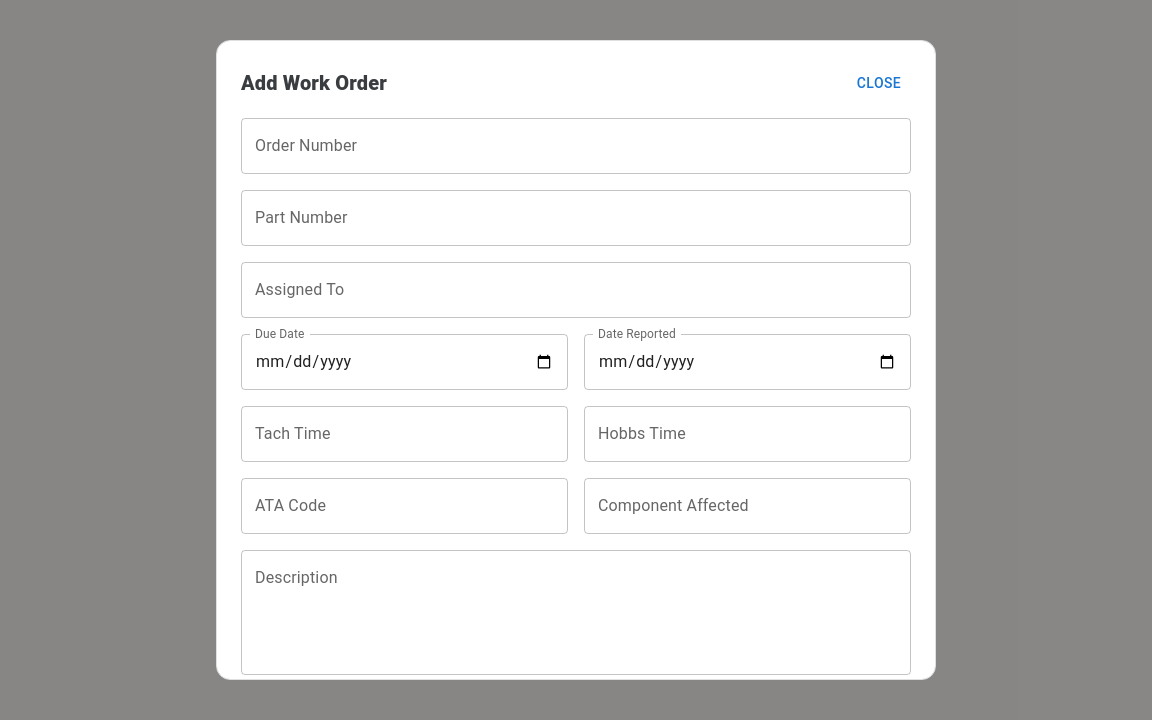
AddWorkOrderForm › Form Validation › should show error for missing description
The image size is (1152, 720).
Type "WO-001" into the field labelled "Order Number".
click(576, 146); type("WO-001")  # box [241,118,911,174]
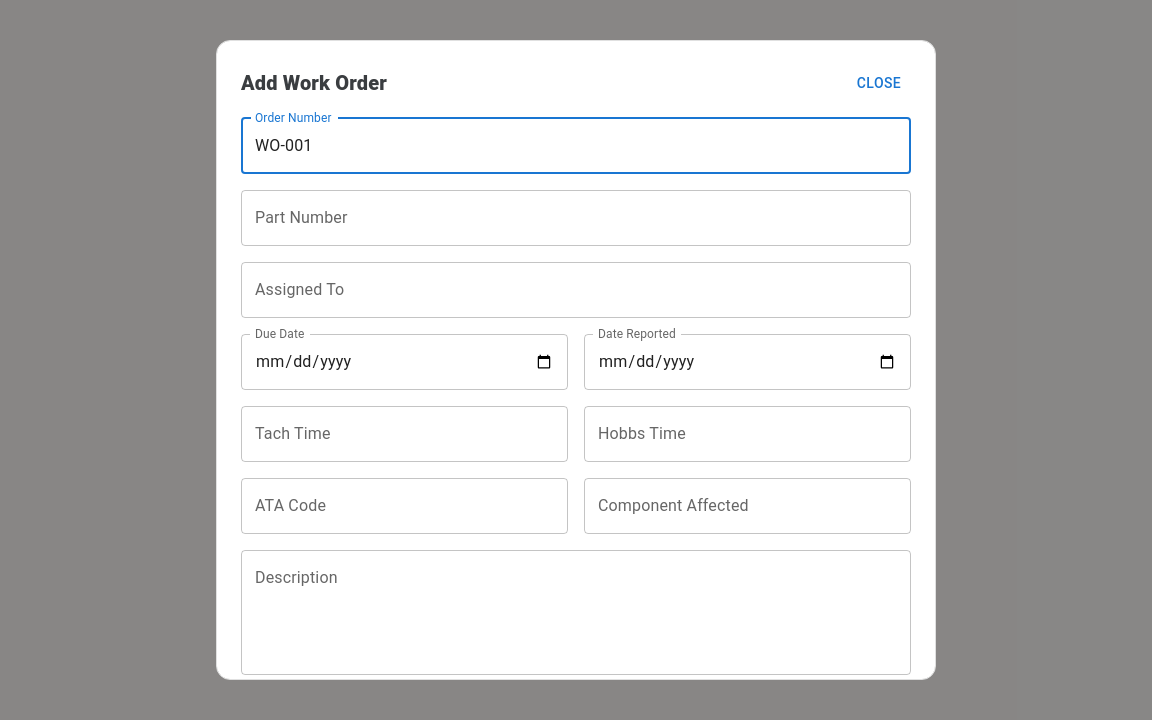
Type "PN-12345" into the field labelled "Part Number".
click(576, 218); type("PN-12345")  # box [241,190,911,246]
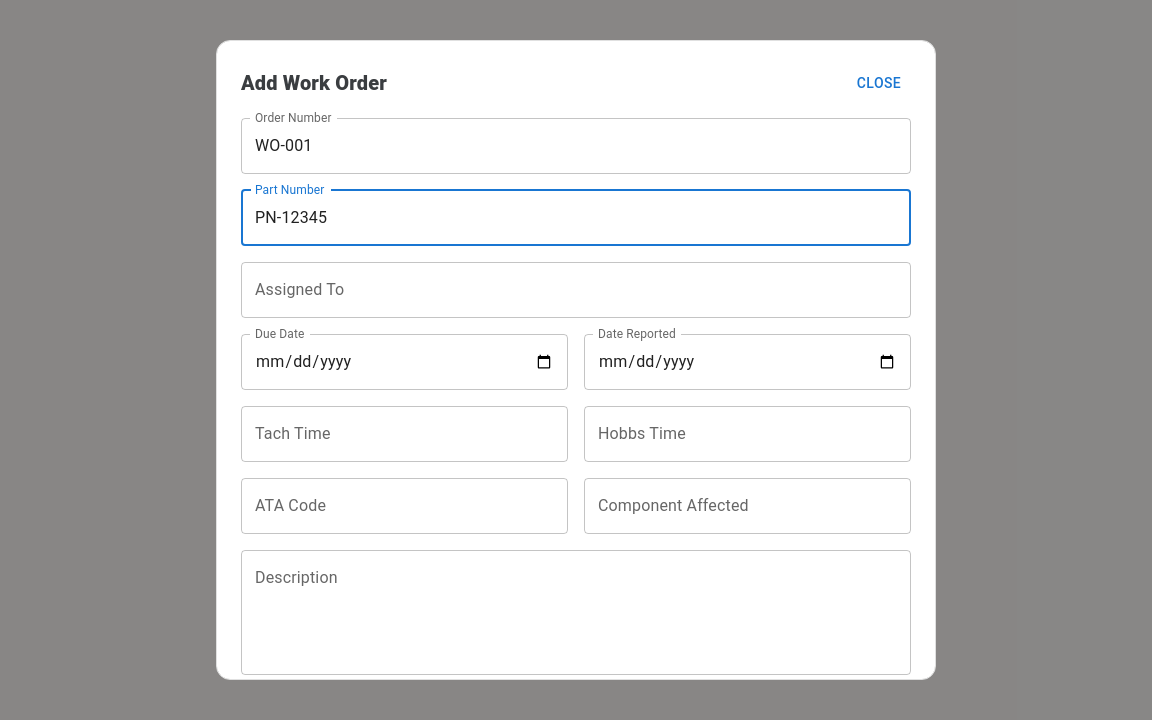
Type "John Doe" into the field labelled "Assigned To".
click(576, 290); type("John Doe")  # box [241,262,911,318]
(page scrolled)
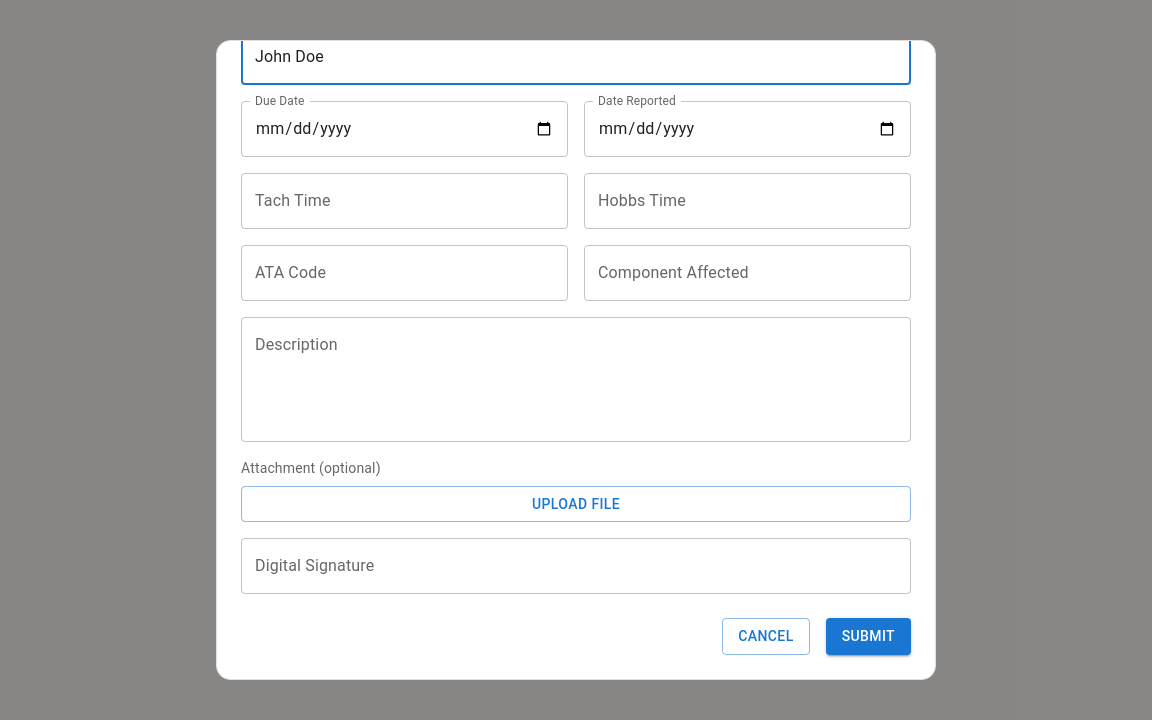
Click the button "Submit".
click(868, 636)  # box [826,618,911,654]
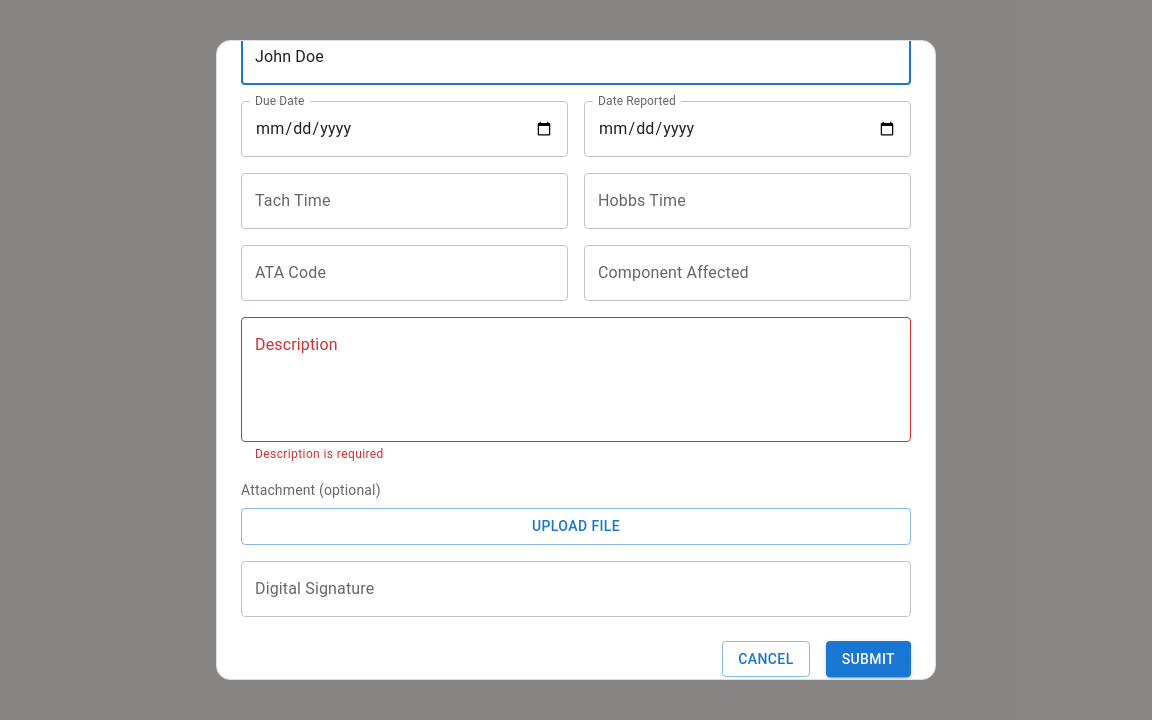
Now the text "Description is required" is shown, box [255,446,384,460]
